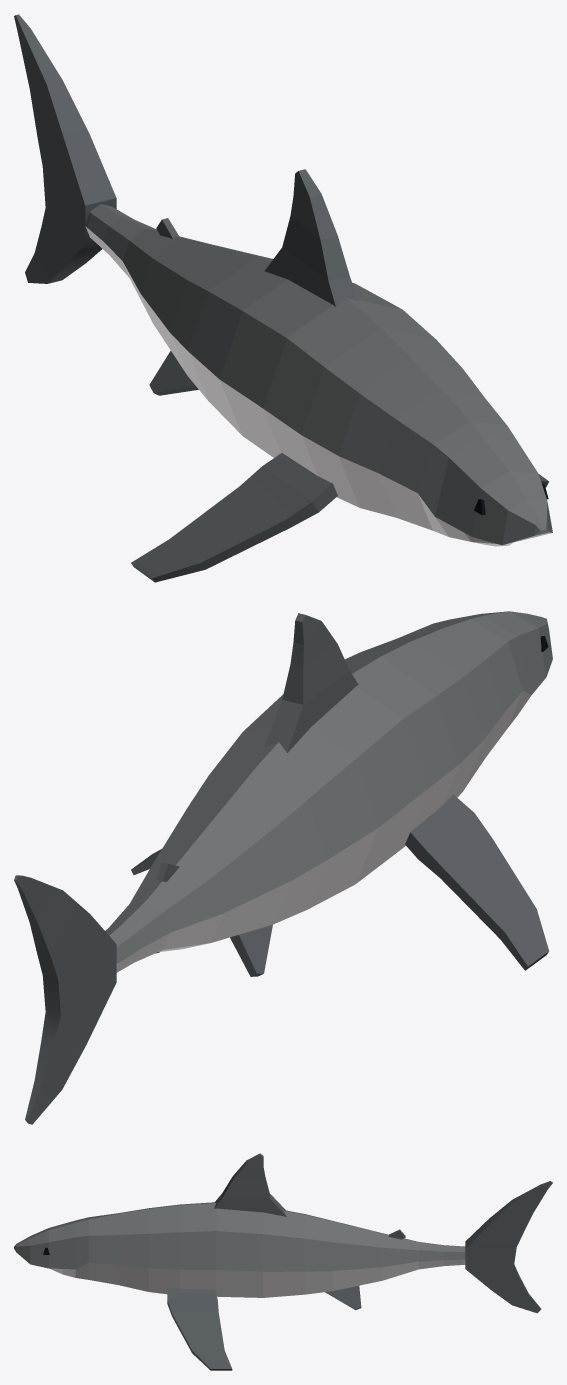
File: shark-b.glb
3 views of the same model, one above another, from view 1: azimuth 30°, elevation 25°; view 2: azimuth 150°, elevation 25°; view 3: azimuth 270°, elevation 25° (orthographic). The views are drawn at different scales.
Parts seen in each view (by area): view 1: Mesh_Shark.obj; view 2: Mesh_Shark.obj; view 3: Mesh_Shark.obj.
Boxes of the visible parts, x1,y1,x2,y2 form: Mesh_Shark.obj: (14, 14, 552, 582); Mesh_Shark.obj: (14, 611, 552, 1124); Mesh_Shark.obj: (14, 1153, 552, 1370).
Size of the model in its own units: 76.37 by 60.5 by 176.
Materials: 1 (1 with a texture image).
